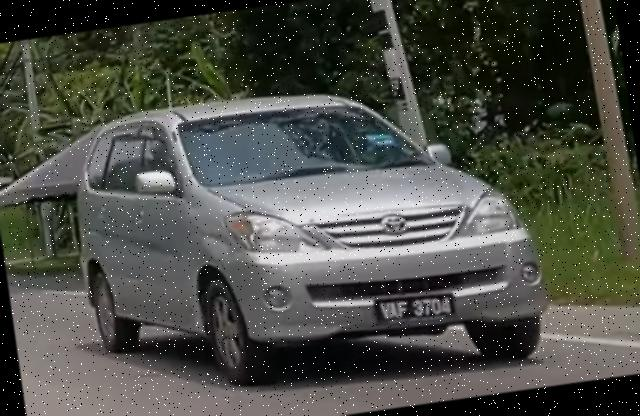License_Plate: (372, 287, 457, 329)
car: (59, 54, 559, 416)
